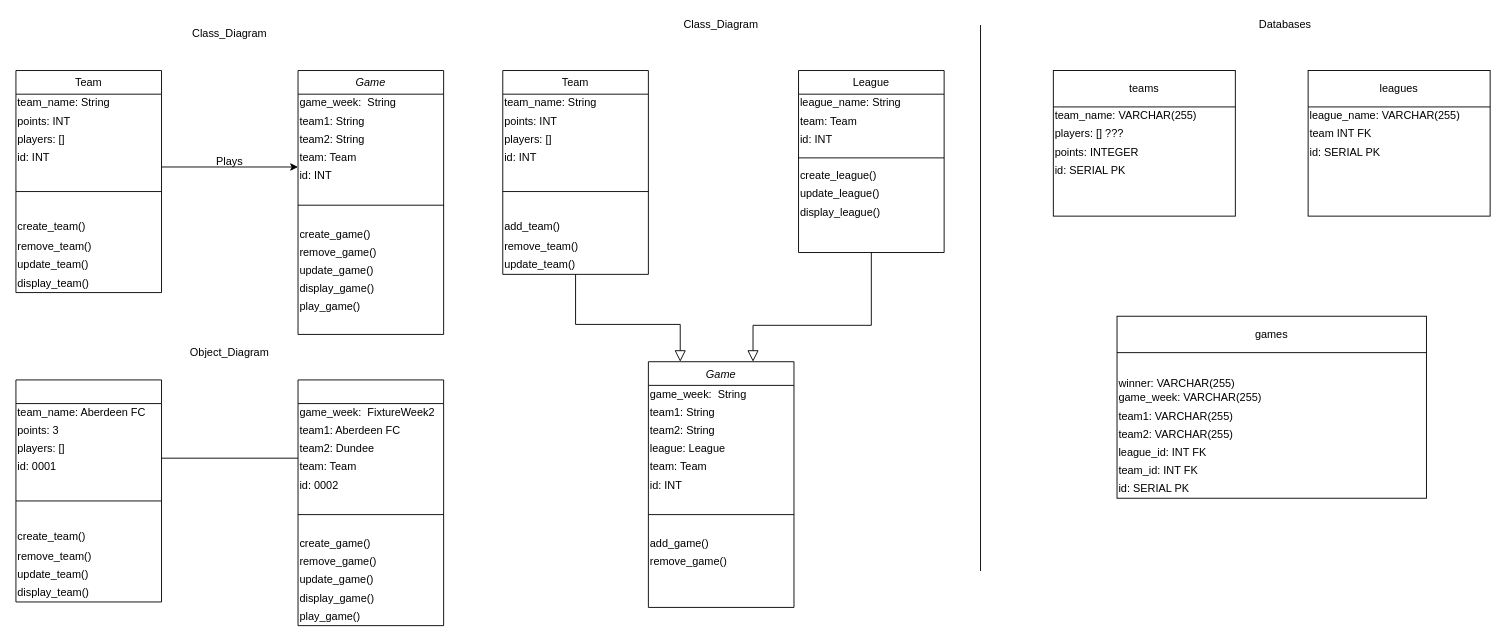
Image size: 1507x642. Some labels were removed from this diagram. Here are the shapes that lost their labels. From the top down, the box of each, then its label:
(15, 379, 162, 602): Aberdeen FC: Team
(297, 379, 444, 626): FixtureWeek2: Game
